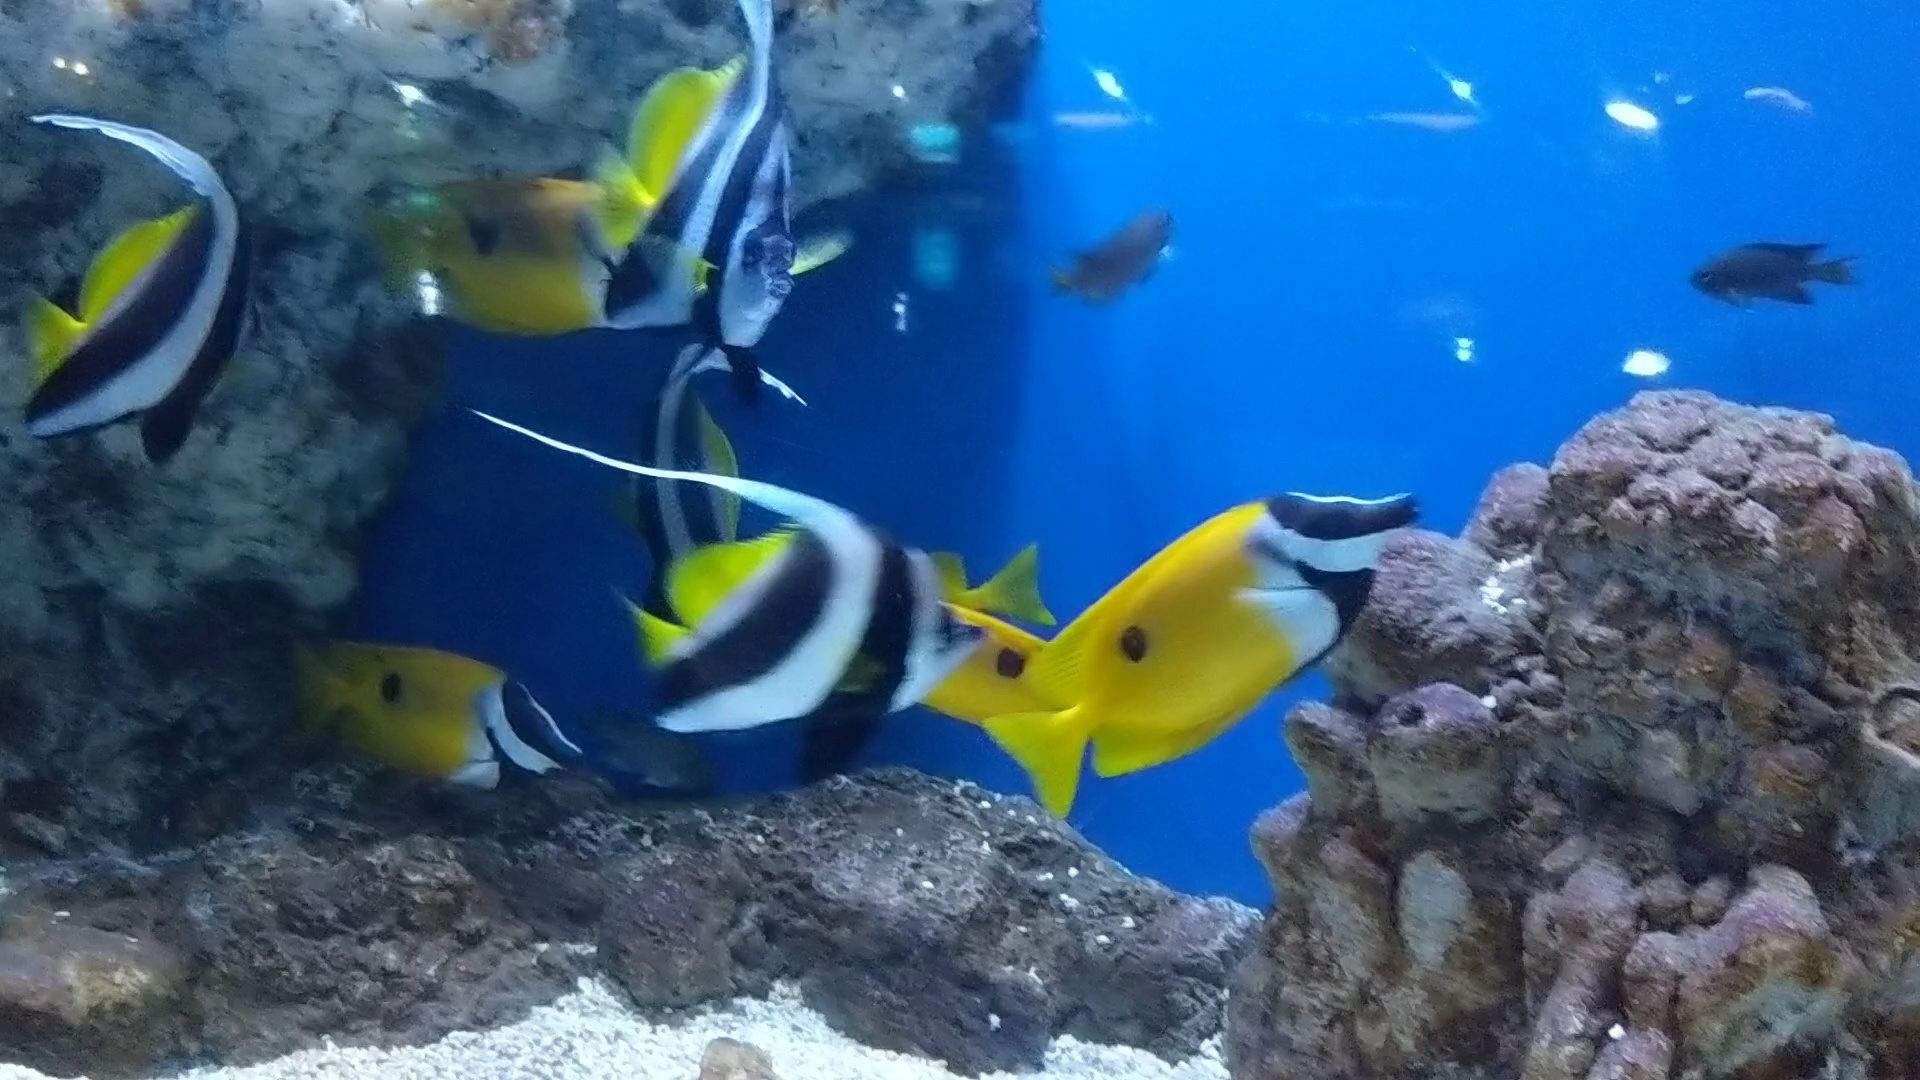moorfish: (448, 378, 978, 774), (390, 0, 812, 328), (0, 100, 278, 498), (615, 336, 738, 553)
rabbitfish: (1040, 479, 1393, 847), (235, 618, 591, 824)
